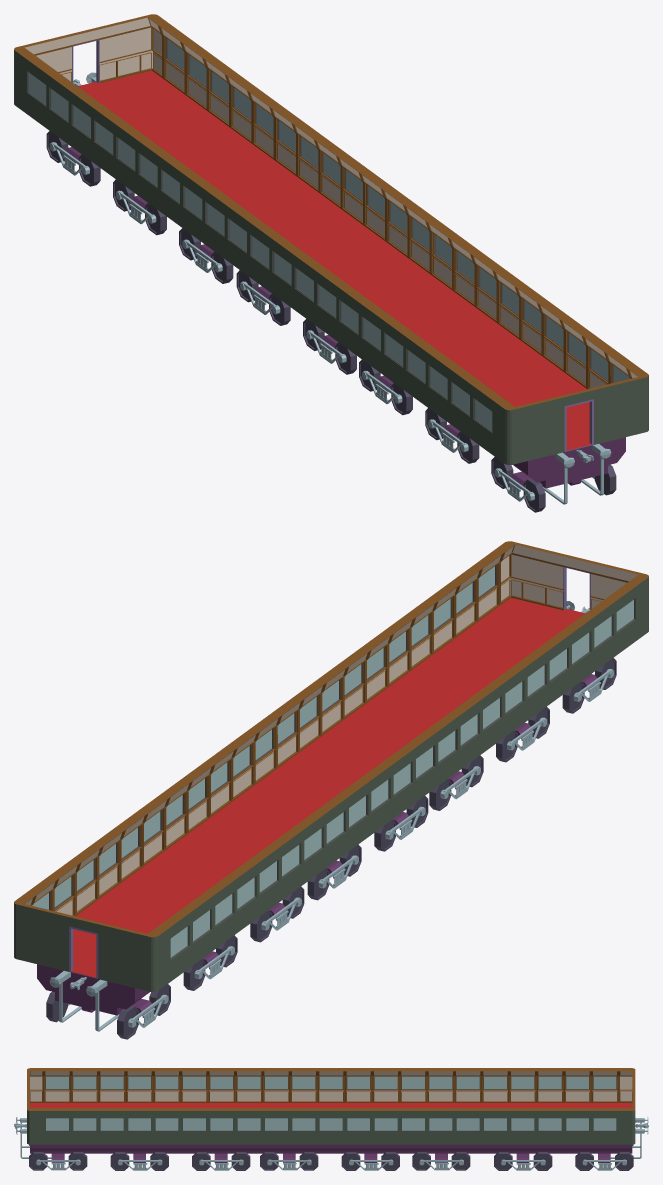
Rendered from Carts_Windows.fbx.
The picture shows the model from 3 angles, top to bottom: view 1: azimuth 30°, elevation 25°; view 2: azimuth 150°, elevation 25°; view 3: azimuth 270°, elevation 25°; orthographic projection. The views are drawn at different scales.
Visible parts, largest first — view 1: pCube227; view 2: pCube227; view 3: pCube227.
Boxes of the visible parts, x1,y1,x2,y2 form: pCube227: (14, 14, 648, 512); pCube227: (14, 541, 648, 1039); pCube227: (14, 1068, 648, 1170).
Size of the model in its own units: 9.16 by 6.92 by 57.19.
